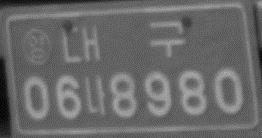0: (212, 67, 246, 116), (23, 74, 50, 121)
6: (55, 74, 83, 120)
8: (177, 69, 208, 116), (109, 71, 137, 118)
9: (144, 70, 172, 118)
나: (83, 73, 108, 118)
대구_D: (59, 17, 187, 65)
영: (21, 25, 53, 67)
